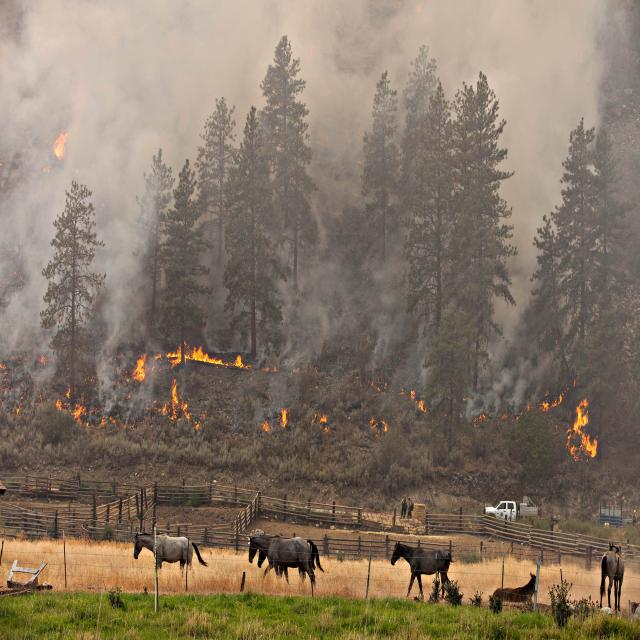Fire: (0, 334, 609, 462)
Smoke: (0, 0, 640, 360)
